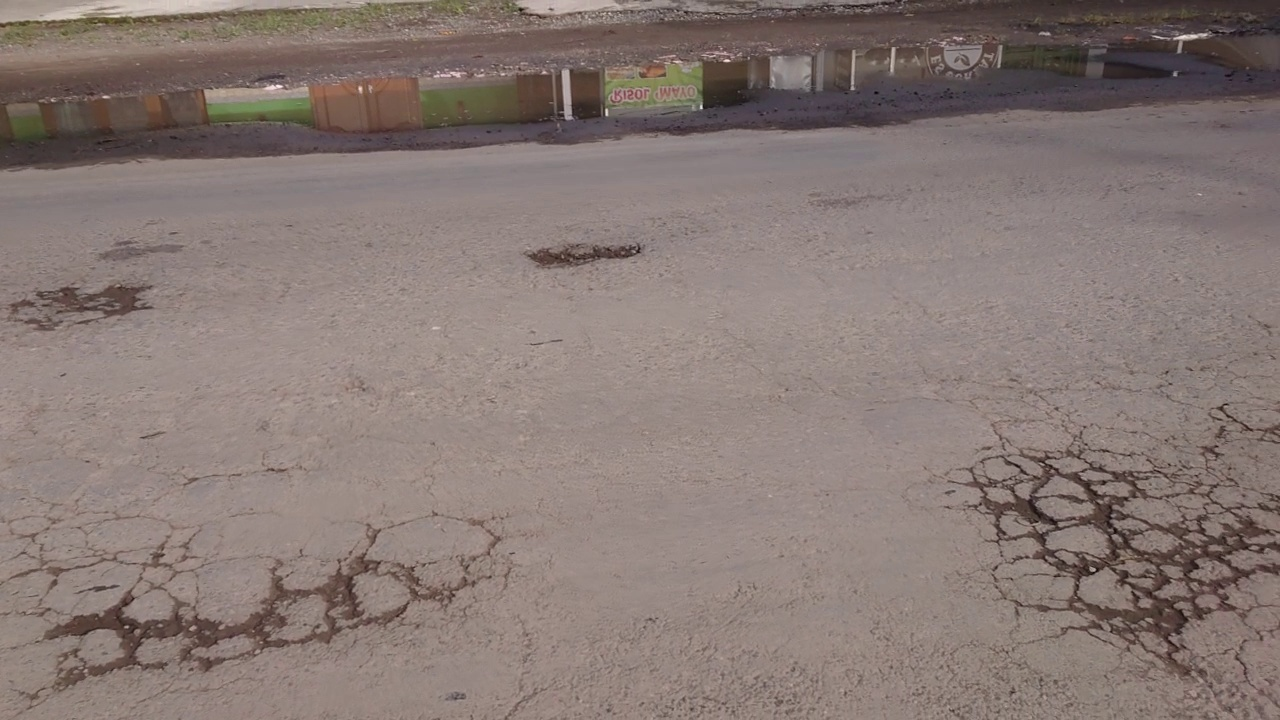Retak: (956, 422, 1280, 701), (36, 519, 511, 694), (14, 283, 165, 337), (532, 240, 656, 270)
